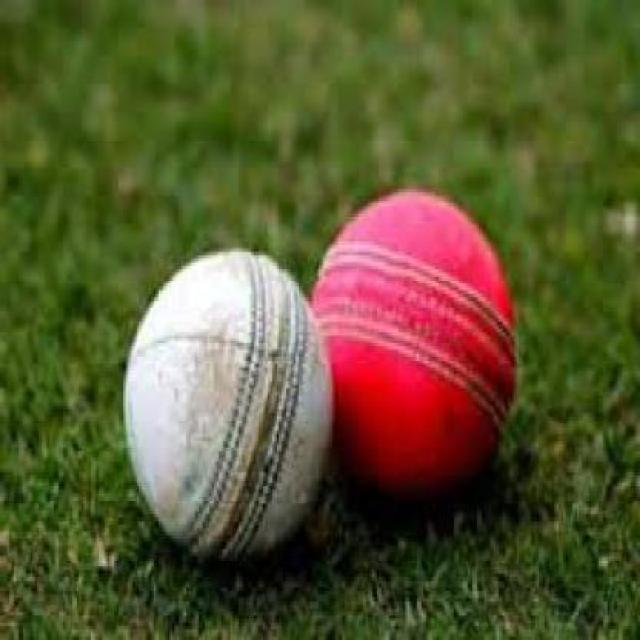ball: (98, 210, 362, 581)
